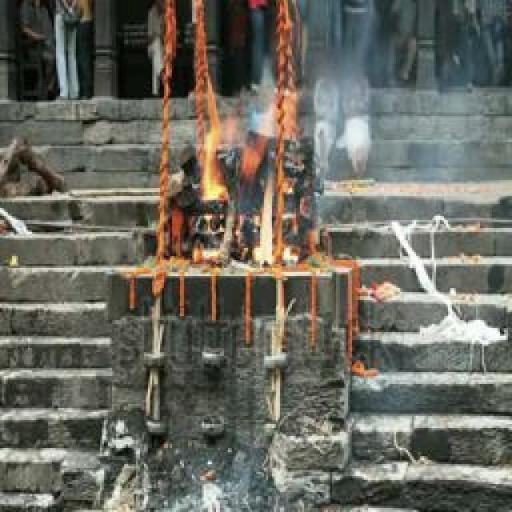smoke: (196, 86, 290, 270)
